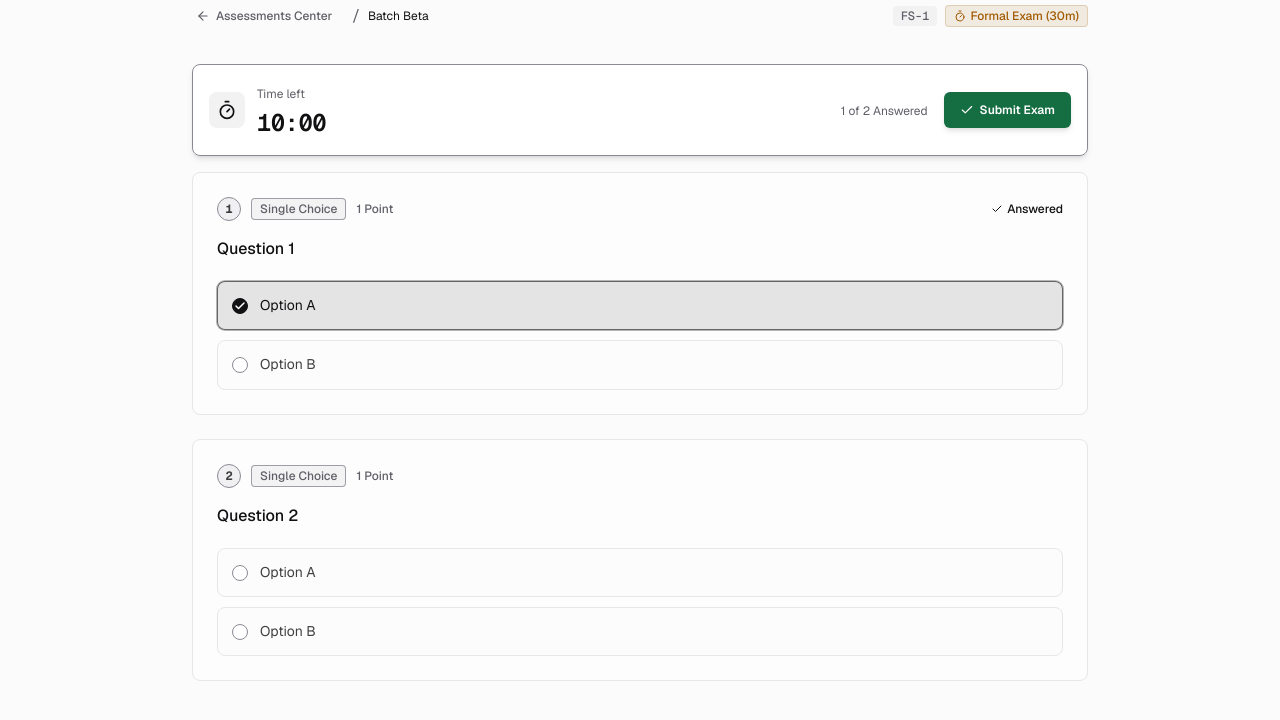
Test: Formal assessment: final-submission confirmation › confirming submits once with the same payload as before (manual, current answers)
Step 1. Click the button "Submit Exam" → {"x": 1007, "y": 110}, box [944, 92, 1071, 128]
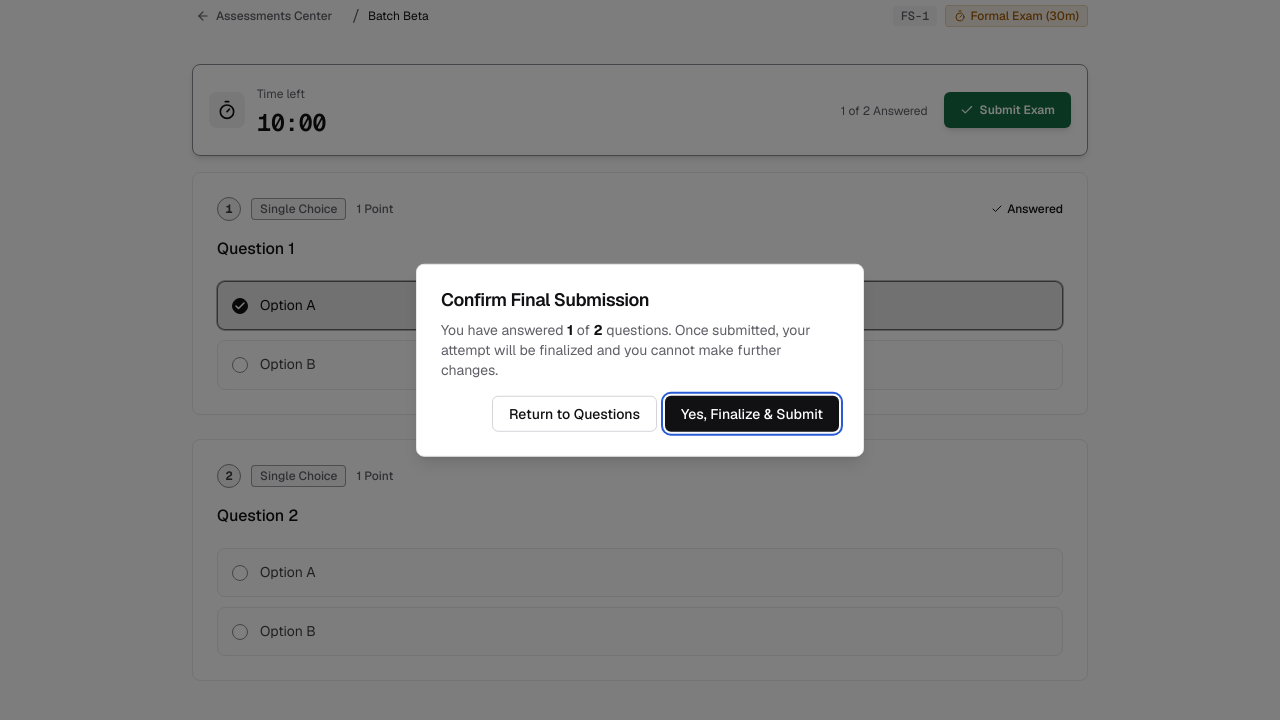
Step 2. Click the button "Yes, Finalize & Submit" → {"x": 752, "y": 413}, box [665, 395, 839, 431]
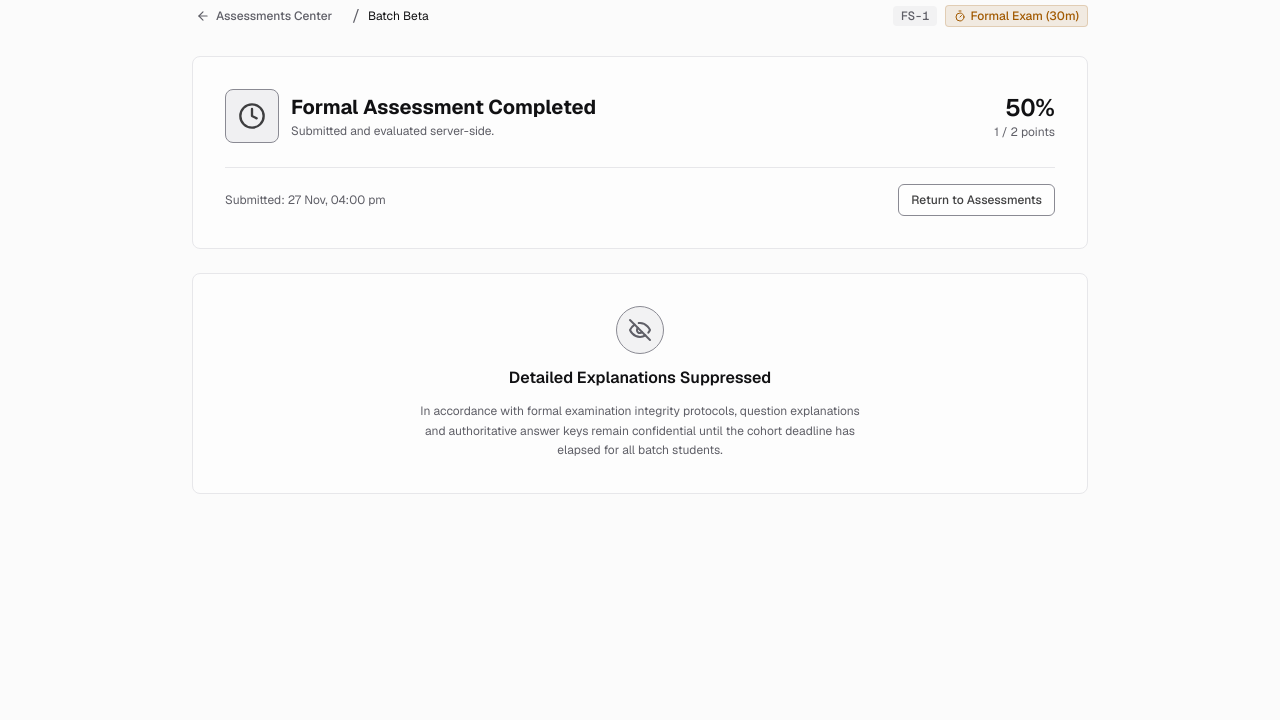
Expected: the dialog is gone
